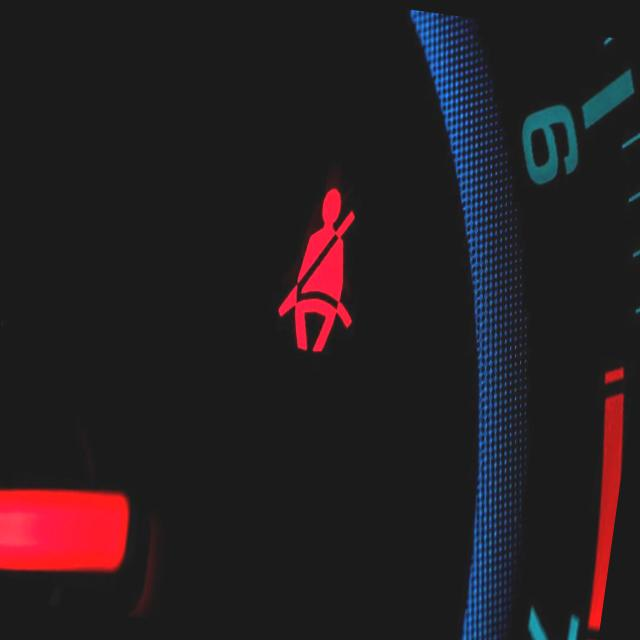kontrolka: (250, 159, 384, 380)
